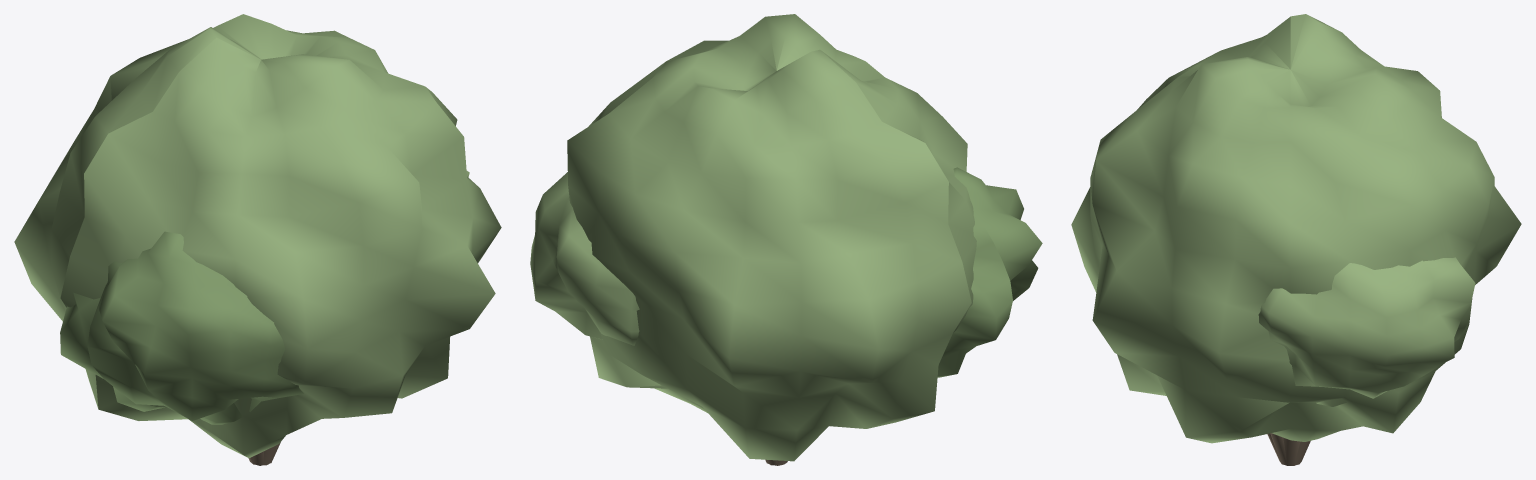
File: ribizli.glb
3 renders of one model, left to right at view 1: azimuth 30°, elevation 25°; view 2: azimuth 150°, elevation 25°; view 3: azimuth 270°, elevation 25°, orthographic. The views are drawn at different scales.
Parts seen in each view (by area): view 1: lomb-1, lomb-2; view 2: lomb-1, lomb-3, lomb-2; view 3: lomb-1, lomb-3.
Boxes of the visible parts, x1,y1,x2,y2 form: lomb-1: (14,14,501,458); lomb-2: (60,231,303,424); lomb-1: (567,14,976,461); lomb-3: (530,172,639,345); lomb-2: (937,167,1042,377); lomb-1: (1071,14,1521,443); lomb-3: (1258,257,1475,406).
Size of the model in its own units: 1.59 by 1.56 by 1.49.
